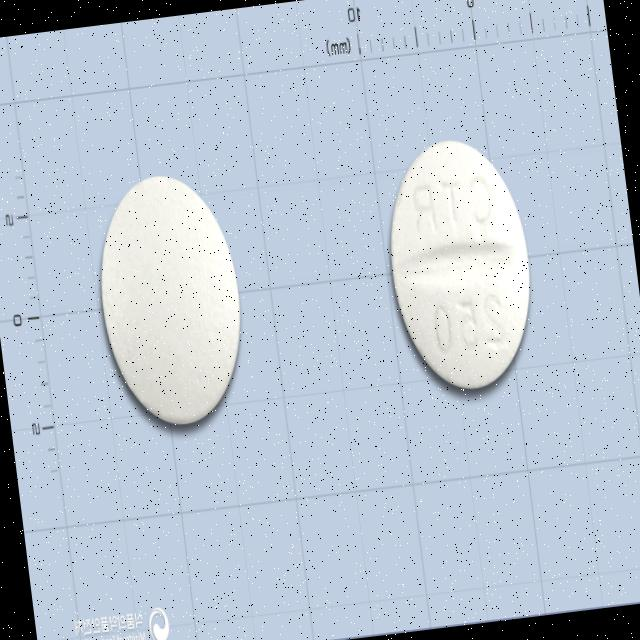Citro: (373, 128, 546, 401), (84, 163, 256, 437)
